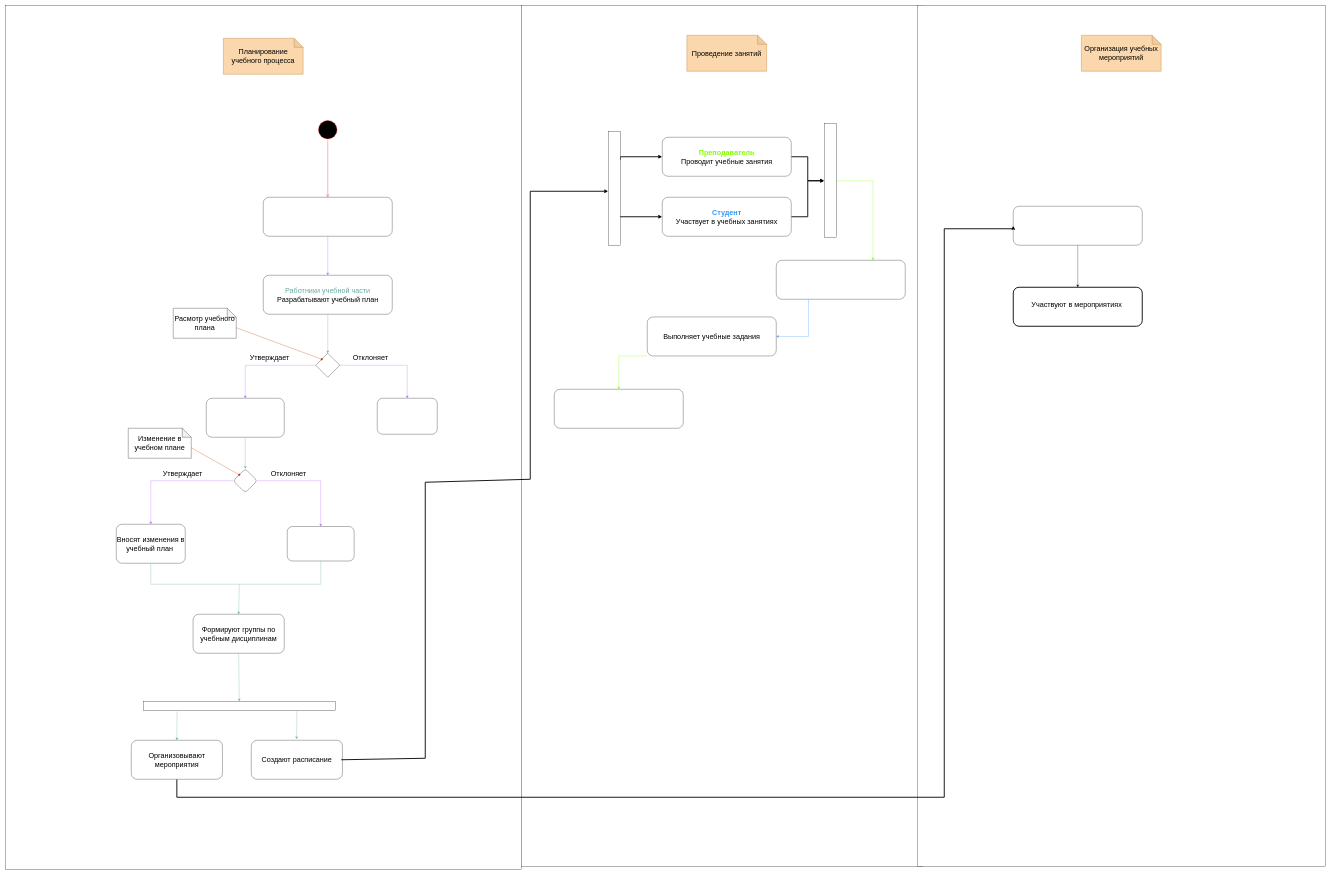
Some shapes in this 1331 by 875 pixel diagram are drawn without their labels. Each missing label, with the centre of its shape:
"Выдает учебные задания" goes at point (840, 279).
"Оценивает достижения студентов" goes at point (618, 408).
"Пересмотр учебного плана" goes at point (407, 416).
"Планируют учебные мероприятия" goes at point (320, 543).
"Преподаватель / Студент" goes at point (1077, 225).
"Руководитель учебной части Формирует запрос на разработку учебного плана" goes at point (327, 216).
"Учебный процесс осуществляется по учебному плану" goes at point (245, 417).
